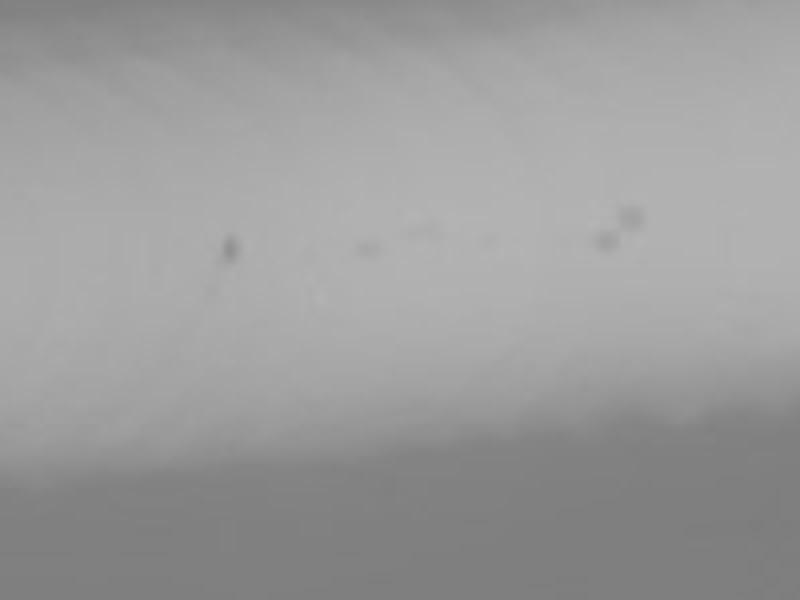defect: (616, 200, 648, 231), (216, 231, 244, 261), (594, 226, 620, 255), (356, 237, 383, 259)
